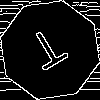T: (25, 25, 75, 80)
